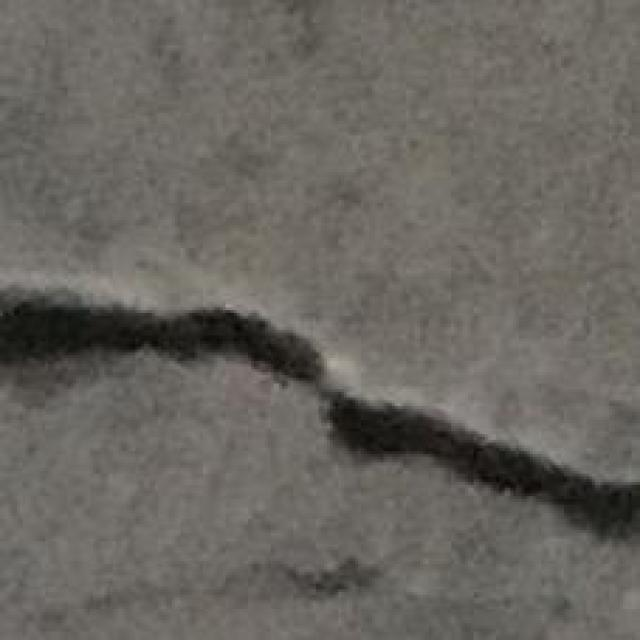diagonal crack: (0, 298, 639, 536)
